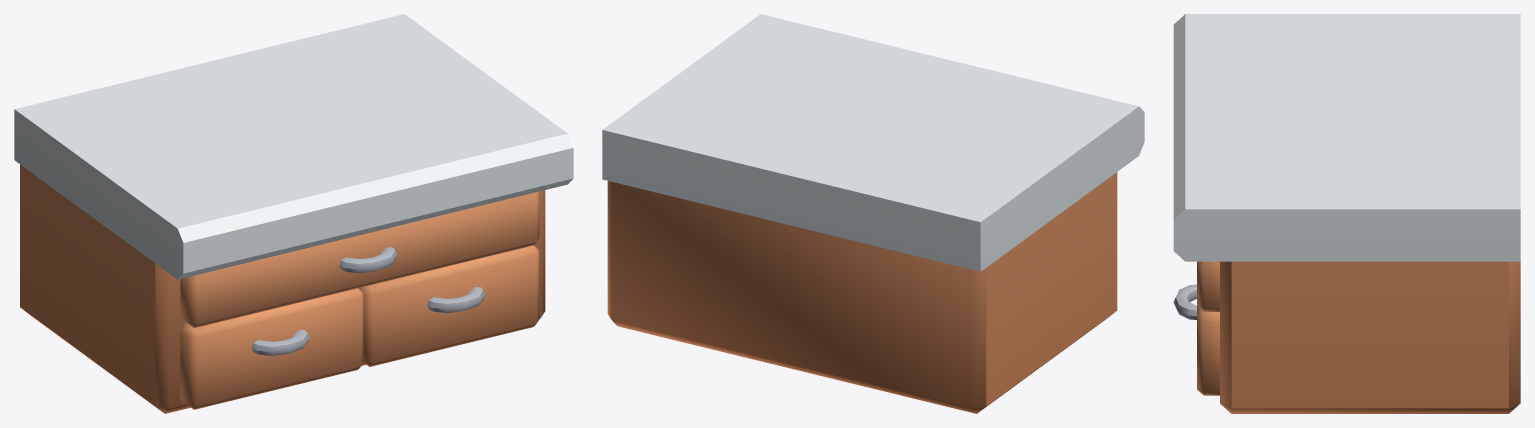
File: Countertop Straight-LXwzLcN9XM.glb
3 views of the same model, side by side, from view 1: azimuth 30°, elevation 25°; view 2: azimuth 150°, elevation 25°; view 3: azimuth 270°, elevation 25° (orthographic). The views are drawn at different scales.
Visible parts, largest first — view 1: countertop_straight_A; view 2: countertop_straight_A; view 3: countertop_straight_A.
Part boxes in pixels (x1,y1,x2,y2): countertop_straight_A: (14,14,573,413); countertop_straight_A: (602,14,1144,413); countertop_straight_A: (1173,14,1520,413).
Bounding box in the file's own units: 2 × 1 × 1.5.
1 material, 1 textured.
